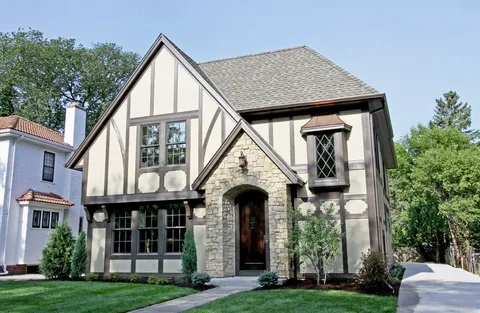private_hause: (82, 58, 393, 284)
